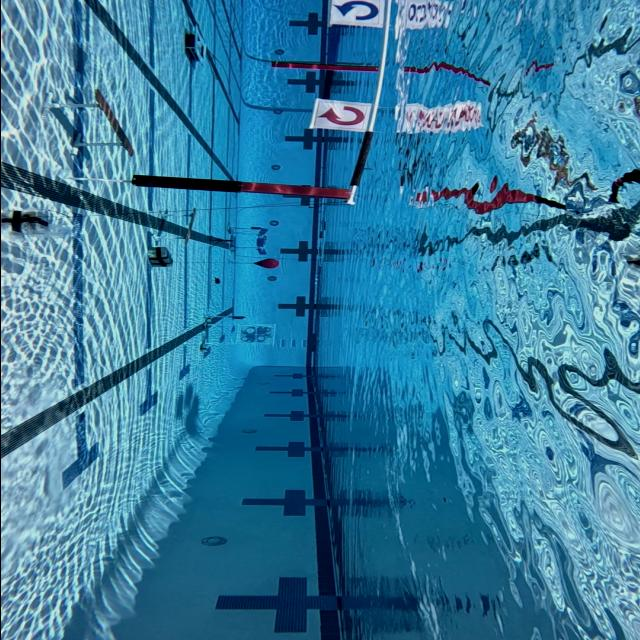blue_side: (320, 0, 380, 28)
red_side: (307, 100, 372, 132)
